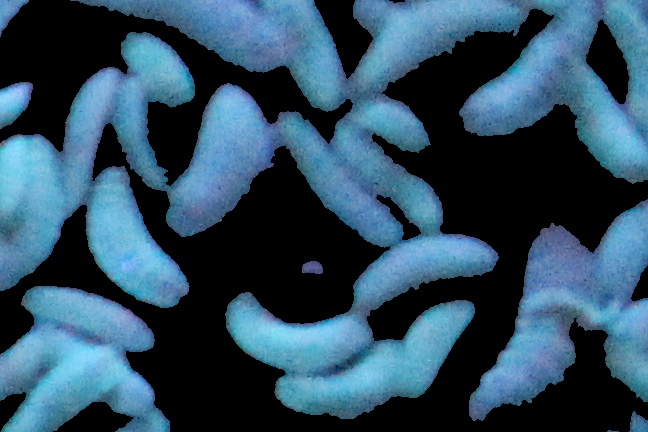larvae: (479, 213, 589, 422), (463, 11, 603, 135), (281, 114, 403, 243), (84, 165, 189, 310), (167, 85, 263, 240), (336, 120, 446, 233), (349, 233, 495, 314), (355, 1, 479, 96), (219, 291, 372, 365), (274, 339, 401, 420), (1, 134, 63, 289), (16, 348, 120, 432), (268, 1, 348, 106), (23, 288, 155, 350), (570, 72, 642, 180), (405, 297, 477, 402), (585, 203, 645, 328), (62, 66, 109, 216), (121, 100, 179, 197), (362, 95, 434, 151), (131, 32, 192, 89), (1, 1, 52, 62)
